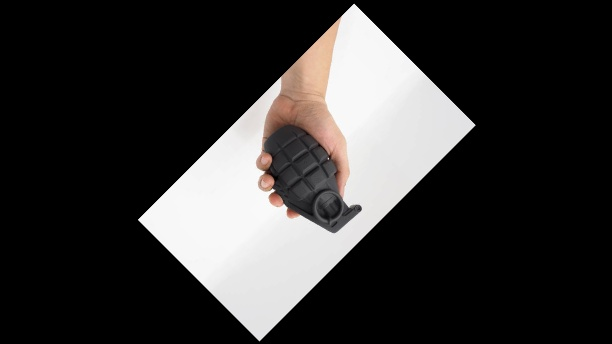e1: (260, 122, 361, 231)
